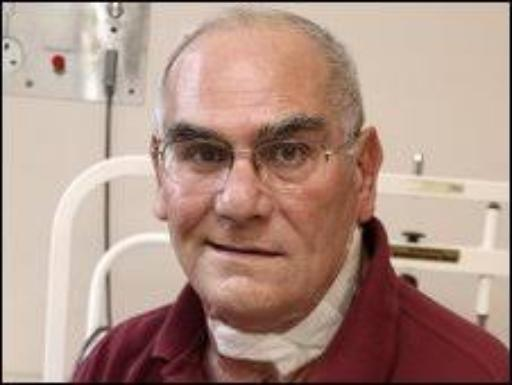left_eye: (266, 143, 317, 167)
left_lip_corner: (271, 249, 293, 264)
right_eye: (180, 146, 229, 167)
right_lip_corner: (199, 238, 221, 257)
